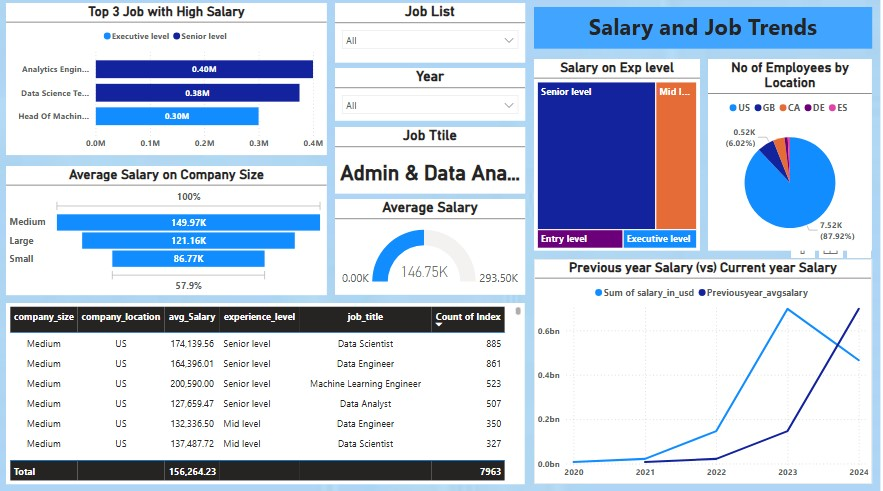

What the dashboard file says about the page in this screenshot:
{"tool":"powerbi","page":{"name":"Salary and job trend","canvas":[1280,720],"ordinal":1},"visuals":[{"type":"image","box":[0,0,1280.2,720],"z":0},{"type":"textbox","box":[776.2,15.8,486.7,60.5],"z":1000},{"type":"lineChart","title":"Previous year Salary (vs) Current year Salary ","fields":{"Category":["DataScience_salaries_2024.Date.Variation.Date Hierarchy.Year"],"Y":["Sum(DataScience_salaries_2024.salary_in_usd)","DataScience_salaries_2024.Previousyear_avgsalary"]},"box":[776.2,378.7,486.7,324],"z":2000},{"type":"barChart","title":"Top 3 Job with High Salary","fields":{"Y":["DataScience_salaries_2024.avg_Salary"],"Category":["DataScience_salaries_2024.job_title"],"Series":["DataScience_salaries_2024.experience_level"]},"box":[15.8,10.1,462.2,218.9],"z":3000},{"type":"funnel","title":"Average Salary on Company Size","fields":{"Category":["DataScience_salaries_2024.company_size"],"Y":["DataScience_salaries_2024.avg_Salary"]},"box":[15.8,244.8,462.2,185.8],"z":4000},{"type":"treemap","title":"Salary on Exp level","fields":{"Group":["DataScience_salaries_2024.experience_level","DataScience_salaries_2024.job_title"],"Values":["Sum(DataScience_salaries_2024.salary_in_usd)"]},"box":[776.2,90.7,239,276.5],"z":5000},{"type":"gauge","title":"Average Salary","fields":{"Y":["DataScience_salaries_2024.avg_Salary"]},"box":[489.6,292.3,273.6,138.2],"z":6000},{"type":"pieChart","title":"No of Employees by Location","fields":{"Y":["CountNonNull(DataScience_salaries_2024.Index)"],"Category":["DataScience_salaries_2024.company_location"]},"box":[1026.7,90.7,236.2,276.5],"z":7000},{"type":"tableEx","fields":{"Values":["DataScience_salaries_2024.company_size","DataScience_salaries_2024.company_location","DataScience_salaries_2024.avg_Salary","DataScience_salaries_2024.experience_level","DataScience_salaries_2024.job_title","CountNonNull(DataScience_salaries_2024.Index)"]},"box":[15.8,442.1,747.4,260.6],"z":8000},{"type":"slicer","title":"Job List","fields":{"Values":["DataScience_salaries_2024.job_title"]},"box":[489.6,10.1,273.6,86.4],"z":9000},{"type":"card","title":"Job Ttile","fields":{"Values":["Min(DataScience_salaries_2024.job_title)"]},"box":[489.6,188.6,273.6,96.5],"z":10000},{"type":"slicer","title":"Year","fields":{"Values":["DataScience_salaries_2024.work_year"]},"box":[489.6,103.7,273.6,76.3],"z":11000}]}

Visuals, with their boxes in screenshot pixels (x1, y1, x2, y2), scaled from the page's 1280x720 canvas onto the 883x491 screenshot:
image: <region>0, 0, 882, 490</region>
textbox: <region>535, 11, 871, 52</region>
"Previous year Salary (vs) Current year Salary " lineChart: <region>535, 258, 871, 479</region>
"Top 3 Job with High Salary" barChart: <region>11, 7, 330, 156</region>
"Average Salary on Company Size" funnel: <region>11, 167, 330, 294</region>
"Salary on Exp level" treemap: <region>535, 62, 700, 250</region>
"Average Salary" gauge: <region>338, 199, 526, 294</region>
"No of Employees by Location" pieChart: <region>708, 62, 871, 250</region>
tableEx - DataScience_salaries_2024.company_size x DataScience_salaries_2024.company_location: <region>11, 301, 526, 479</region>
"Job List" slicer: <region>338, 7, 526, 66</region>
"Job Ttile" card: <region>338, 129, 526, 194</region>
"Year" slicer: <region>338, 71, 526, 123</region>
